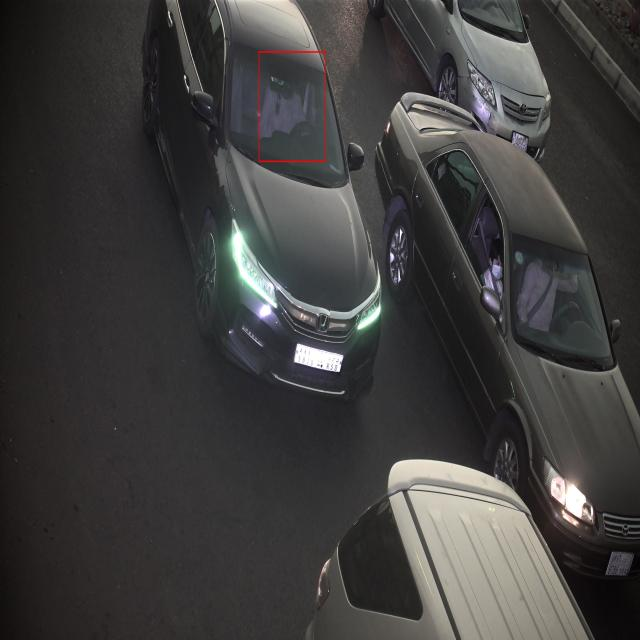windshield: (221, 39, 351, 188), (502, 221, 619, 368)
